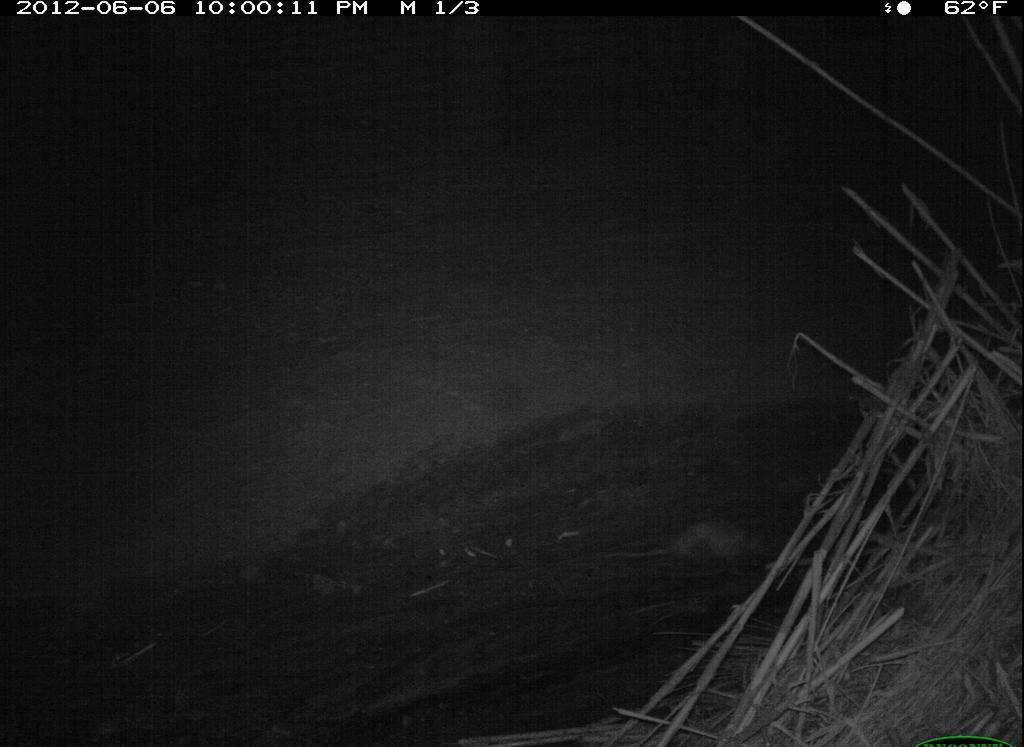opossum: (593, 511, 790, 600)
